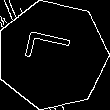L_E: (24, 34, 81, 76)
